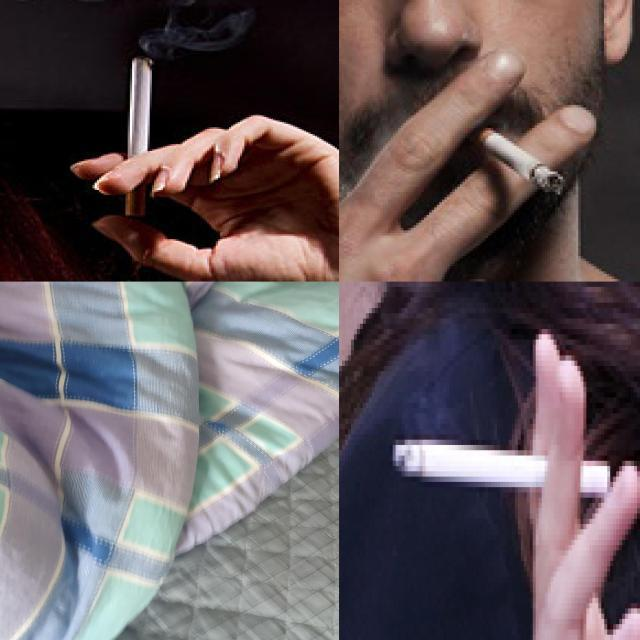smoking: (392, 438, 612, 498), (119, 51, 154, 216), (476, 125, 560, 192)
